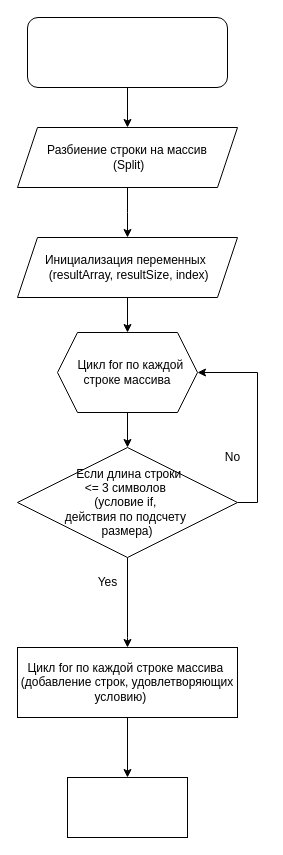
Some shapes in this 283 by 855 pixel diagram are drawn without their labels. Here are the shapes that lost their labels. From the top down, the centre of each, then its label:
the point at 127,52: Ввод массива строк (Console.WriteLine, Console.ReadLine)
the point at 127,807: Вывод результата (Console.WriteLine)
